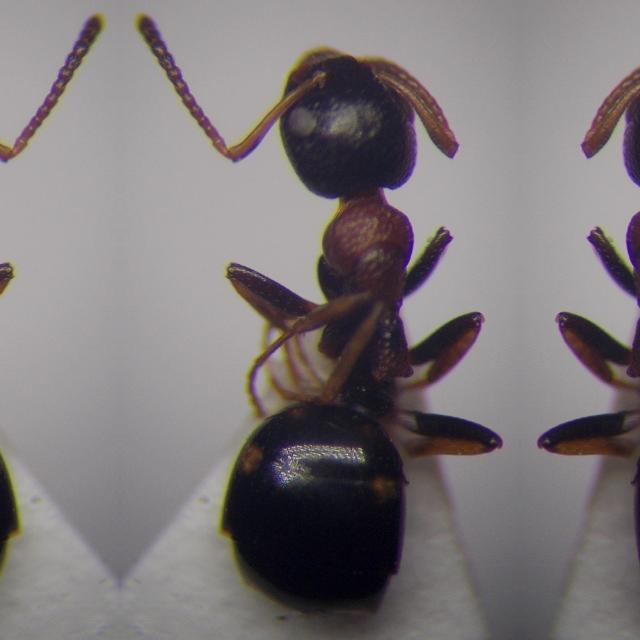Dolichoderus: (182, 31, 520, 640), (520, 29, 640, 638)
